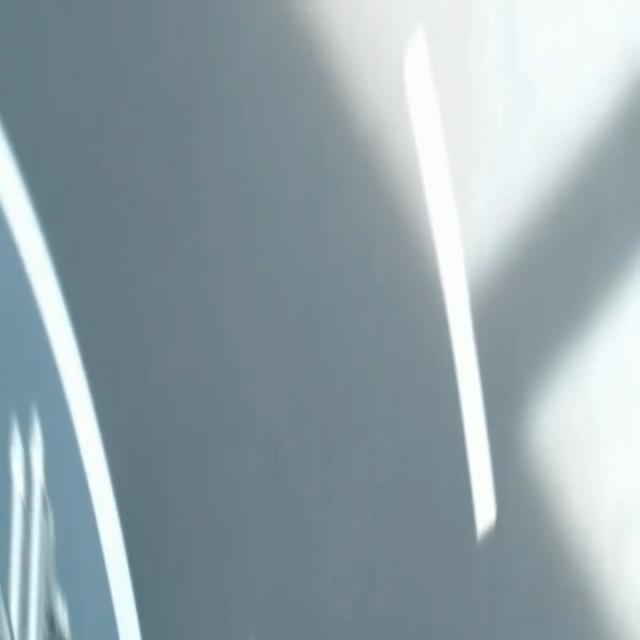center: (404, 25, 496, 540)
left: (0, 120, 140, 639)
